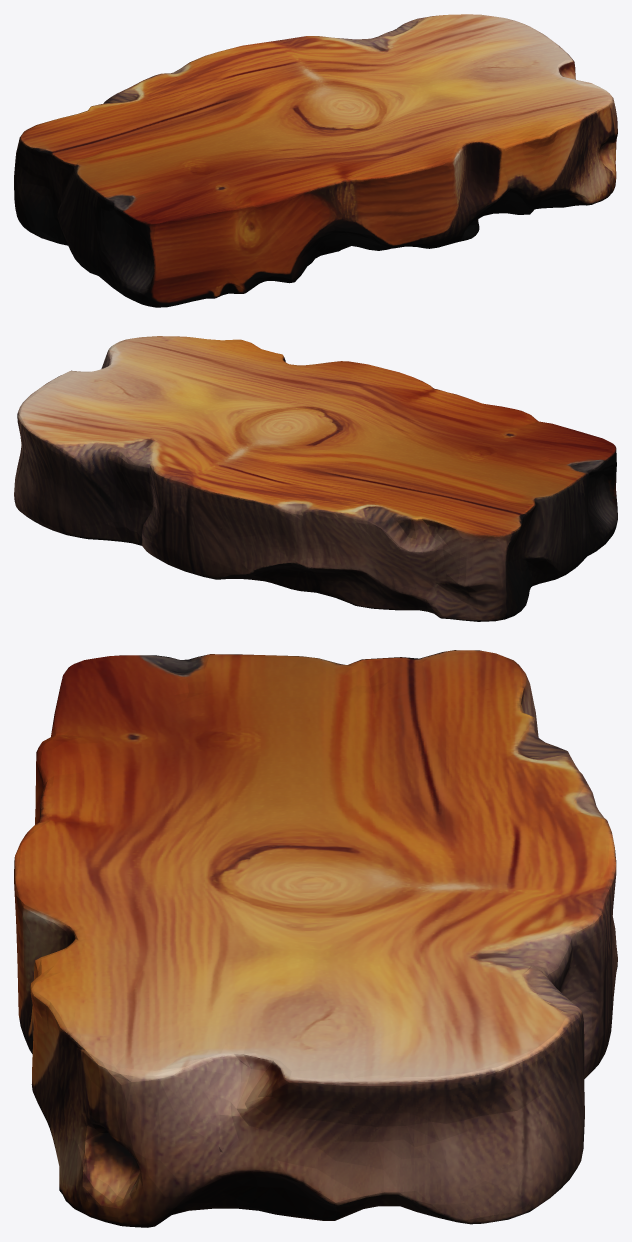
The model's file is wooden-doorstop-rustic.jpeg.glb.
3 views of the same model, one above another, from view 1: azimuth 30°, elevation 25°; view 2: azimuth 150°, elevation 25°; view 3: azimuth 270°, elevation 25° (orthographic). The views are drawn at different scales.
Visible parts, largest first — view 1: world; view 2: world; view 3: world.
Boxes of the visible parts, x1,y1,x2,y2 form: world: (14,14,617,307); world: (14,336,617,621); world: (14,650,617,1227).
Size of the model in its own units: 1 by 0.1862 by 0.5896.
Materials: 1 (1 with a texture image).
